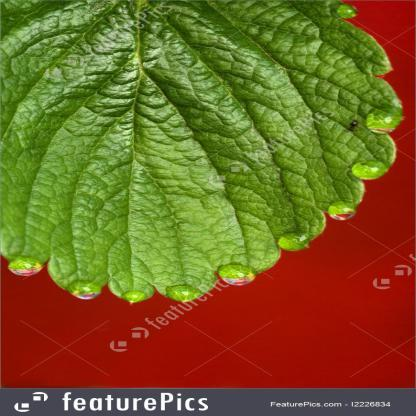Strawberry leaf: (0, 0, 405, 307)
